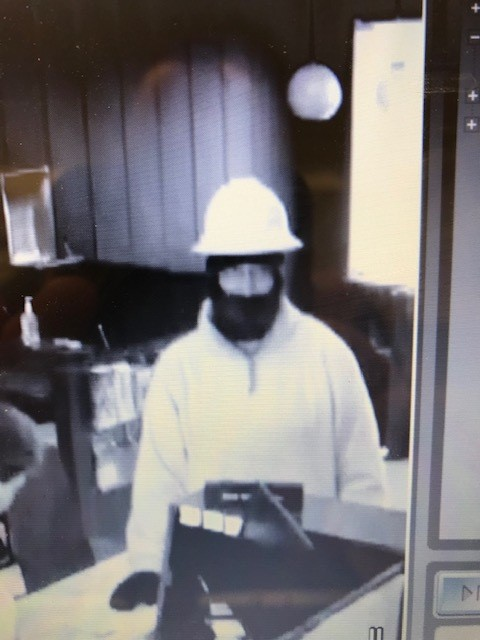helmet: (182, 160, 310, 252)
